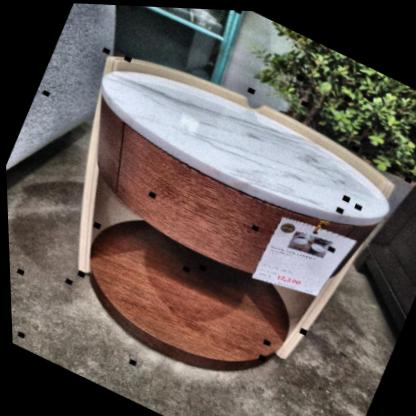Nightstand: (6, 34, 409, 416)
